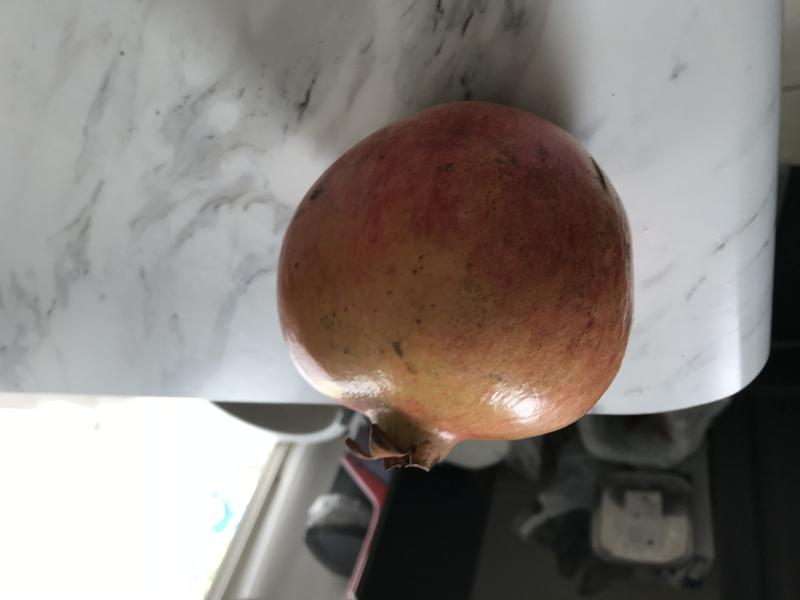pomegranate: (261, 95, 644, 482)
